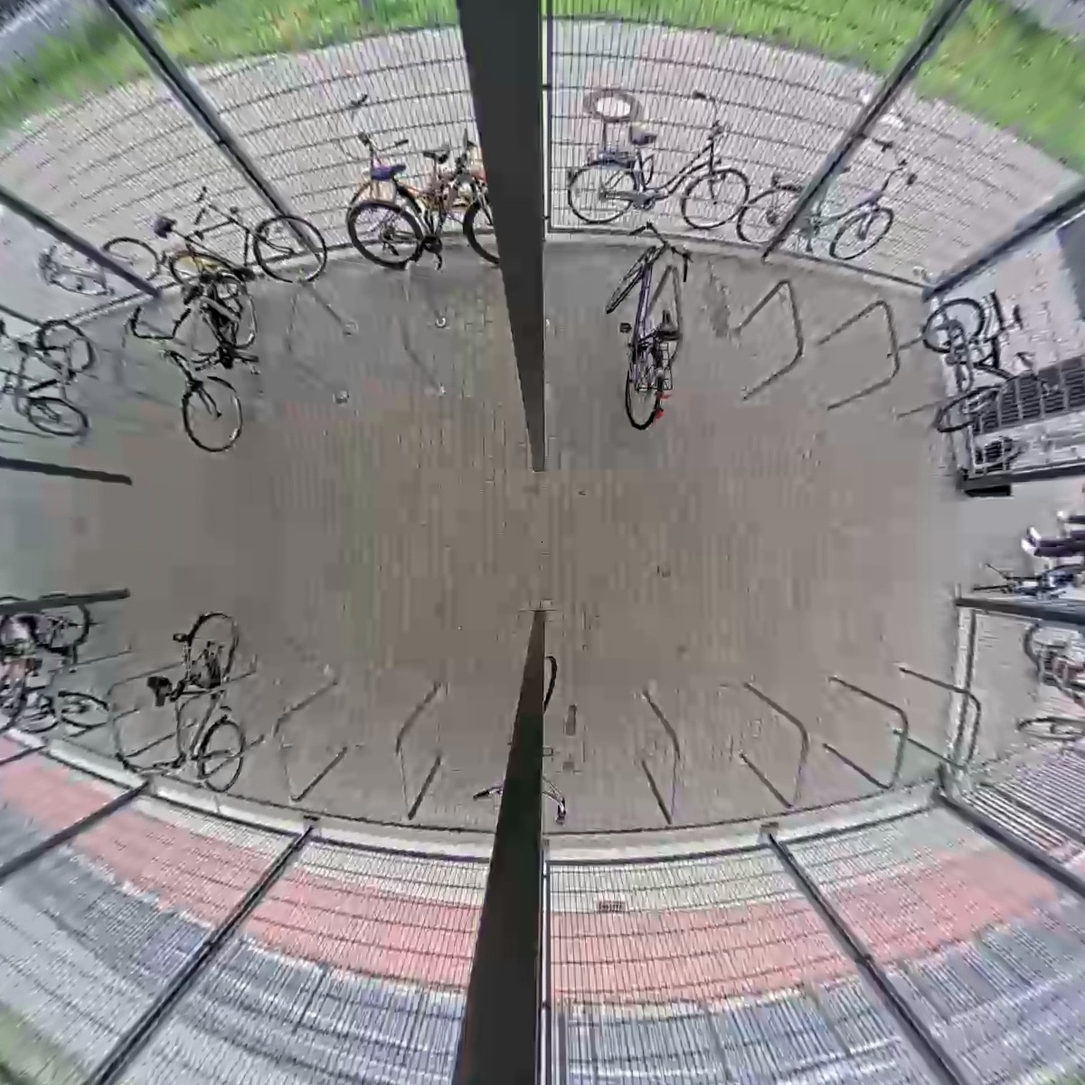bicylce: (169, 273, 259, 453), (347, 182, 498, 274), (169, 213, 328, 300), (169, 612, 243, 798), (605, 244, 679, 429), (922, 297, 1015, 434), (32, 582, 108, 745), (8, 318, 93, 436), (2, 586, 60, 741)
saddle: (143, 675, 173, 706), (657, 309, 684, 341), (370, 162, 407, 183), (153, 215, 179, 238), (179, 283, 198, 304), (1013, 304, 1024, 329)
